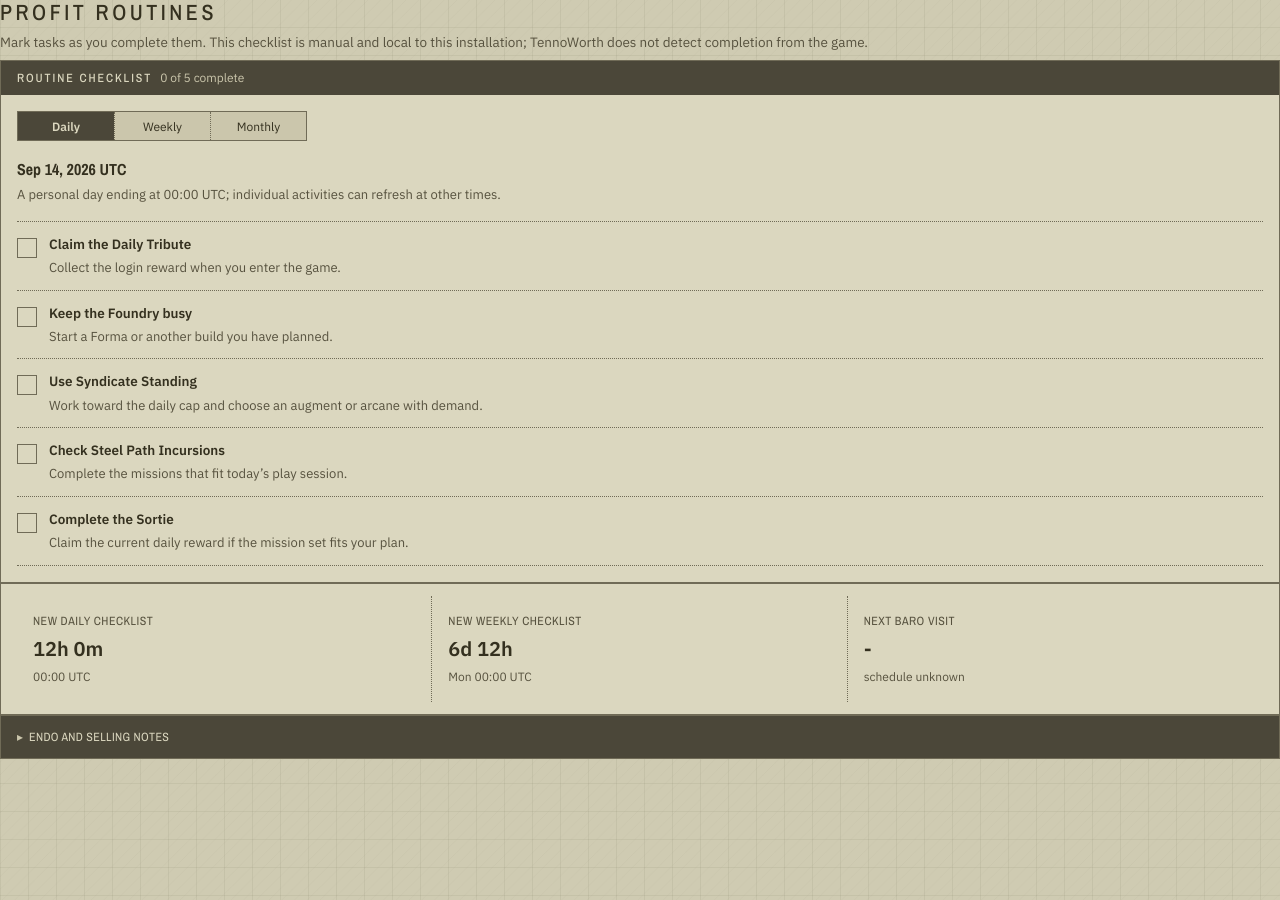
Test case: RoutinesPanel › removes only the chosen goal and shows the empty state when the last one goes
Click the button "Monthly" at [258, 126], box [210,112,306,140]
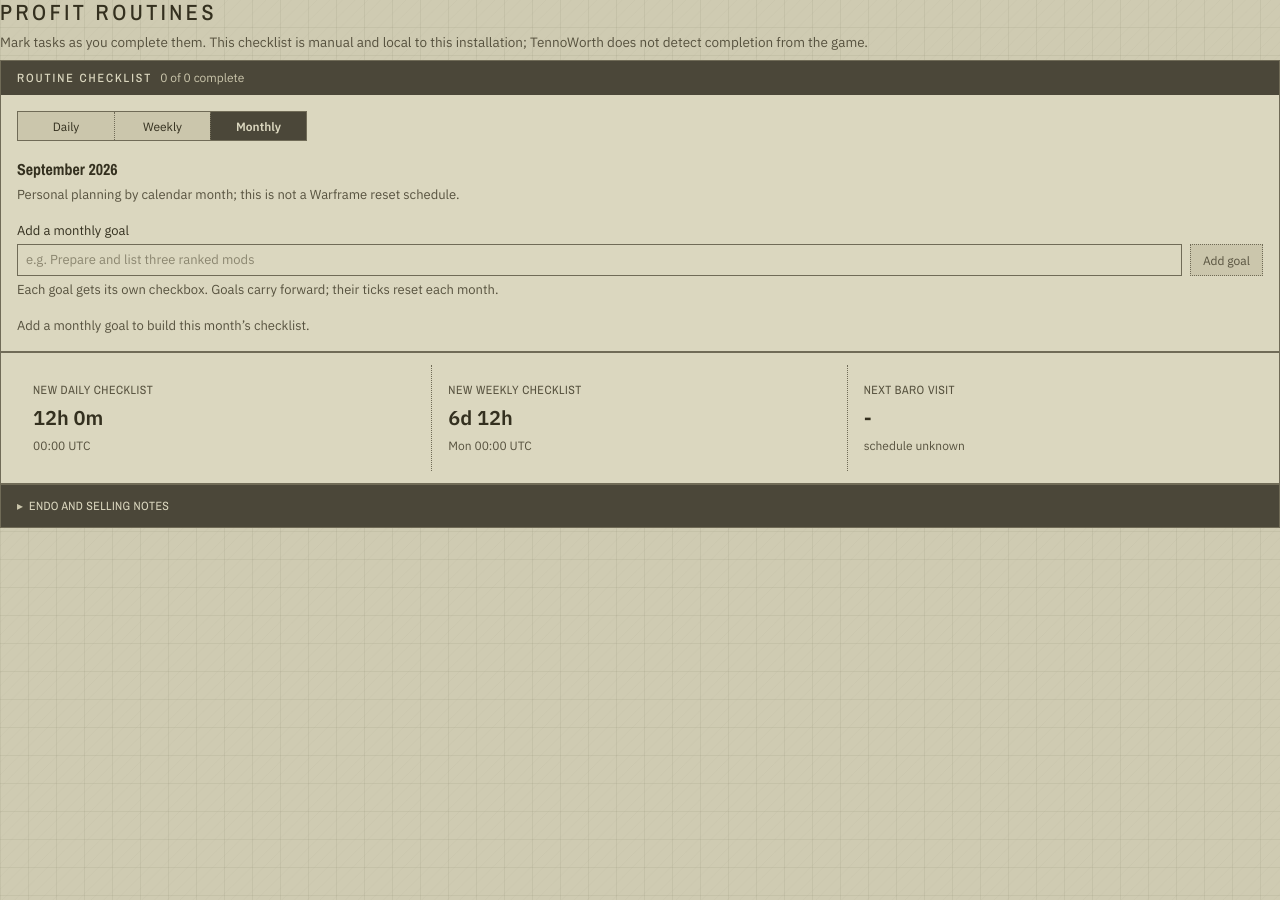
Type "List ranked mods" into the field labelled "Add a monthly goal" at [599, 260], box [17,244,1182,276]
Click the button "Add goal" at [1226, 260], box [1190,244,1263,276]
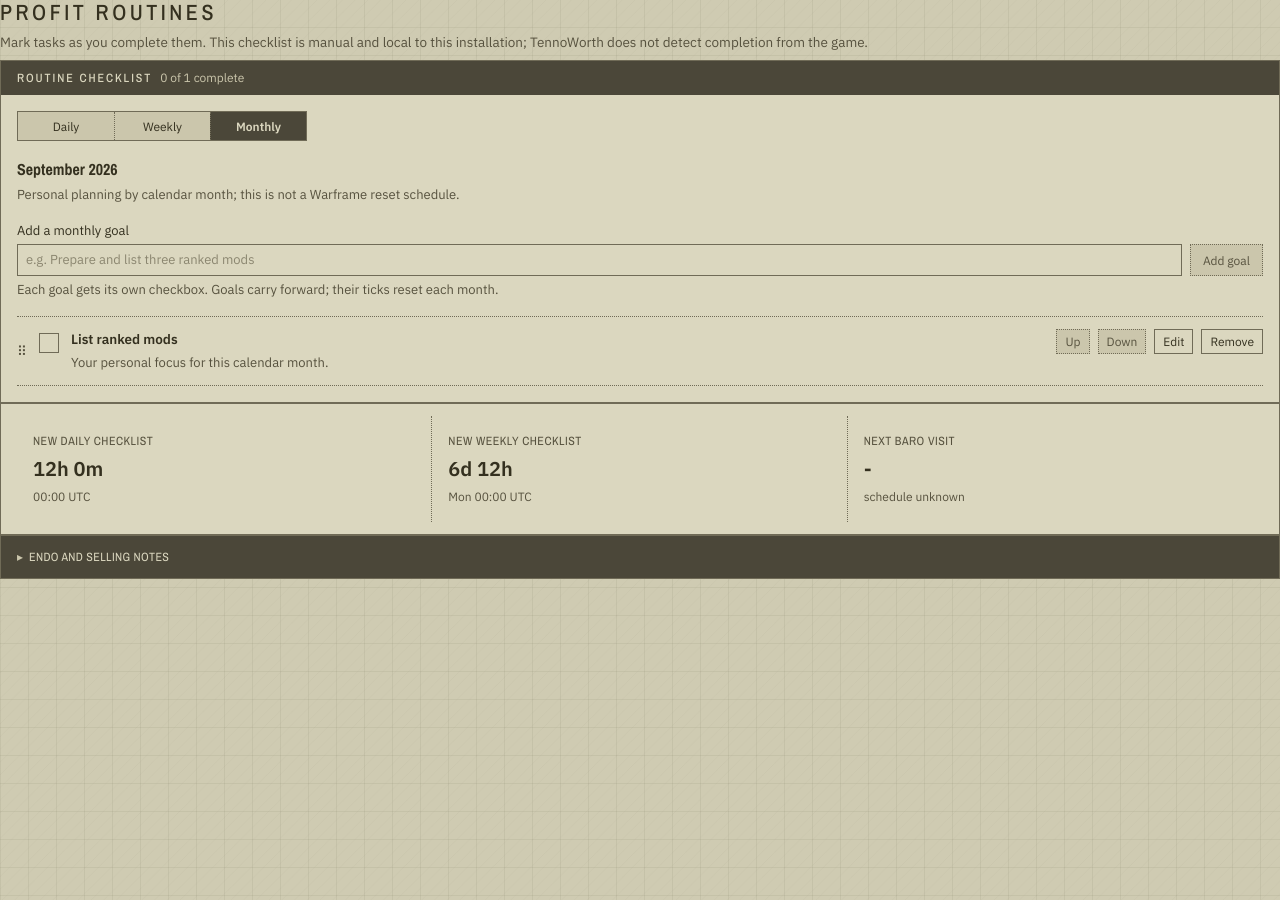
Type "Prepare Prime sets" into the field labelled "Add a monthly goal" at [599, 260], box [17,244,1182,276]
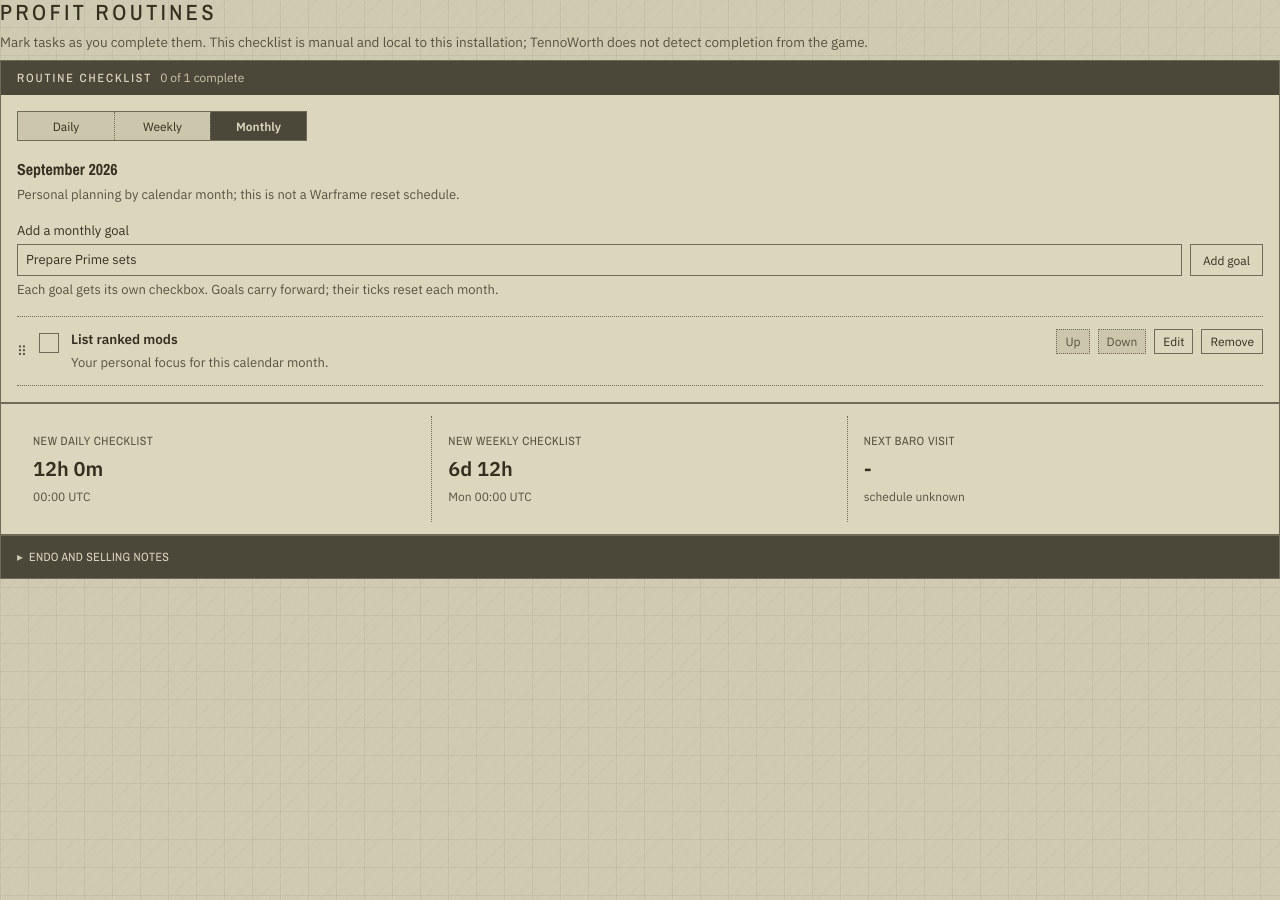
Click the button "Add goal" at [1226, 260], box [1190,244,1263,276]
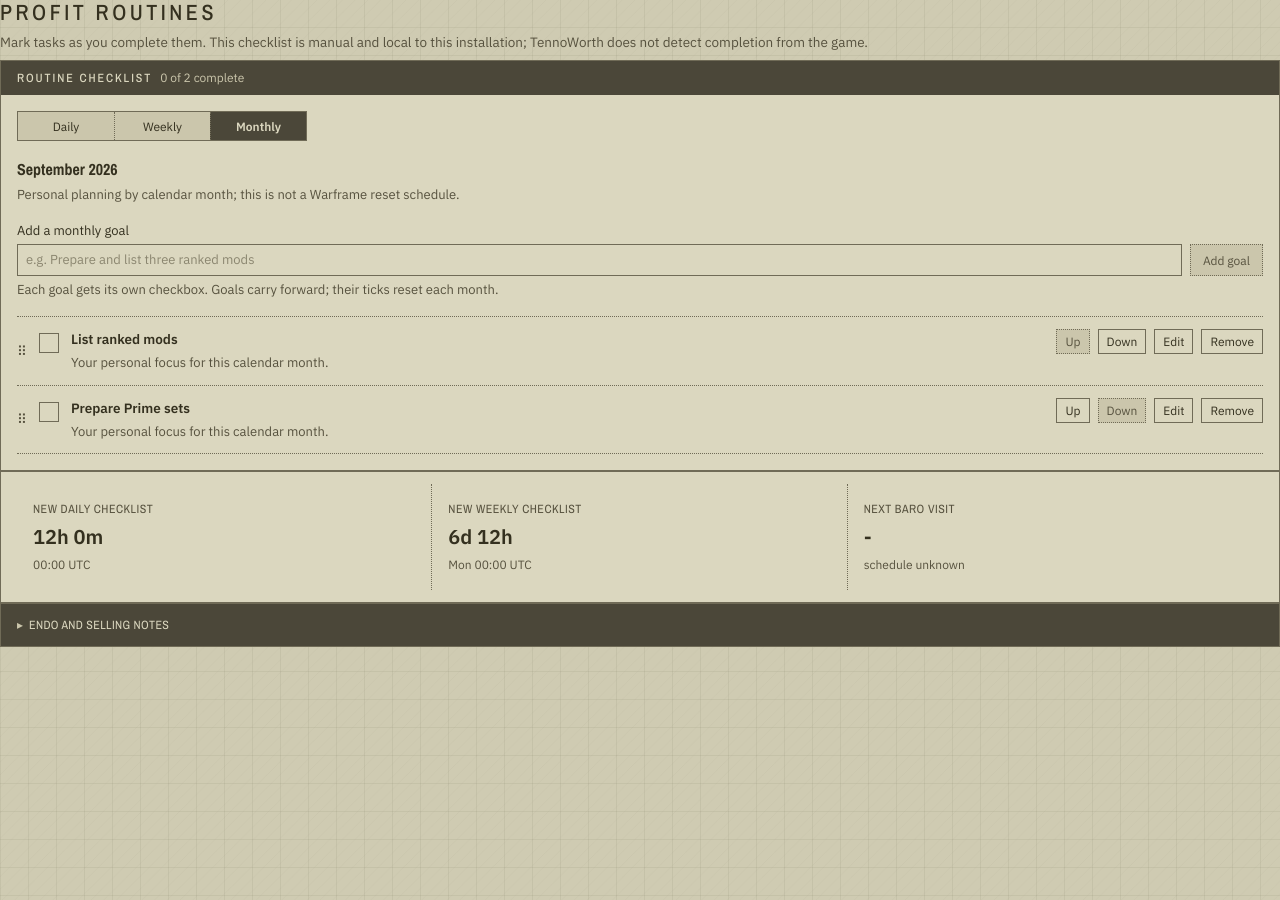
Click the button with aria-label "Remove Prepare Prime sets" at [1232, 410], box [1201,398,1263,423]
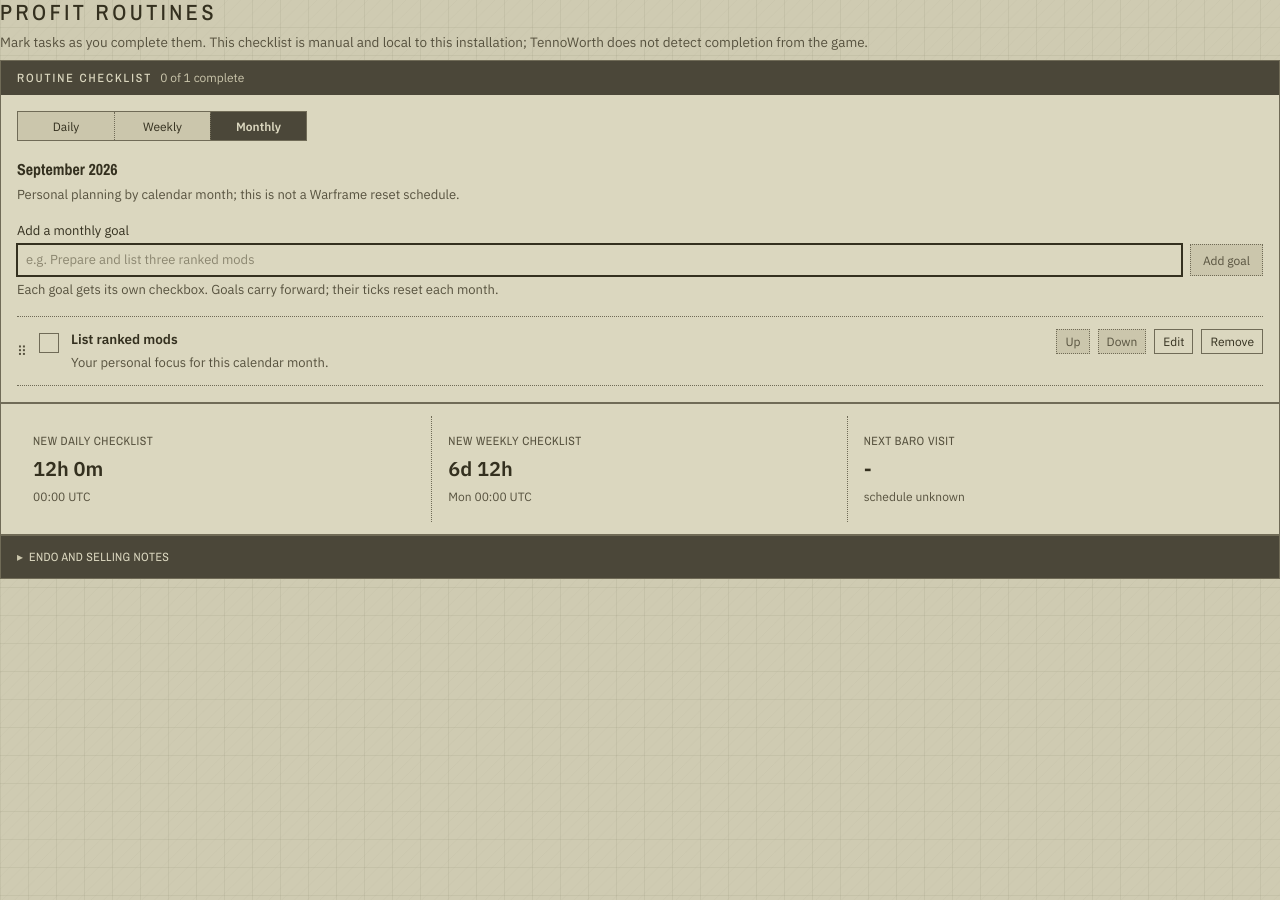
Now the checkbox labelled "List ranked mods" is shown, box [39,333,59,353]
Now the text "Prepare Prime sets" is gone
Click the button with aria-label "Remove List ranked mods" at [1232, 341], box [1201,329,1263,354]
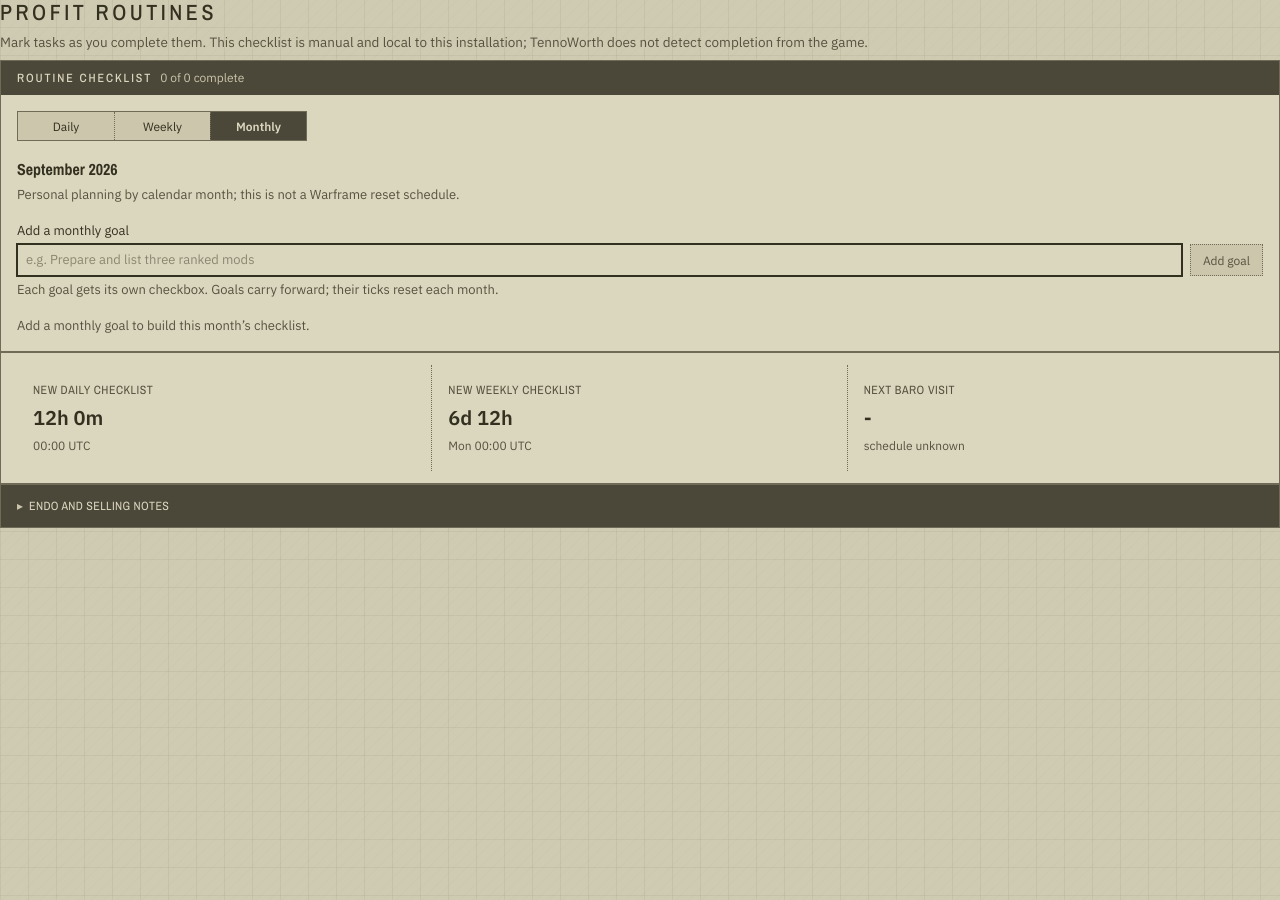
Now the text "Add a monthly goal to build this month’s checklist." is shown, box [17,317,310,334]
